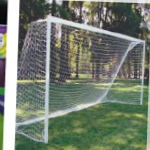goals: (15, 13, 145, 146)
